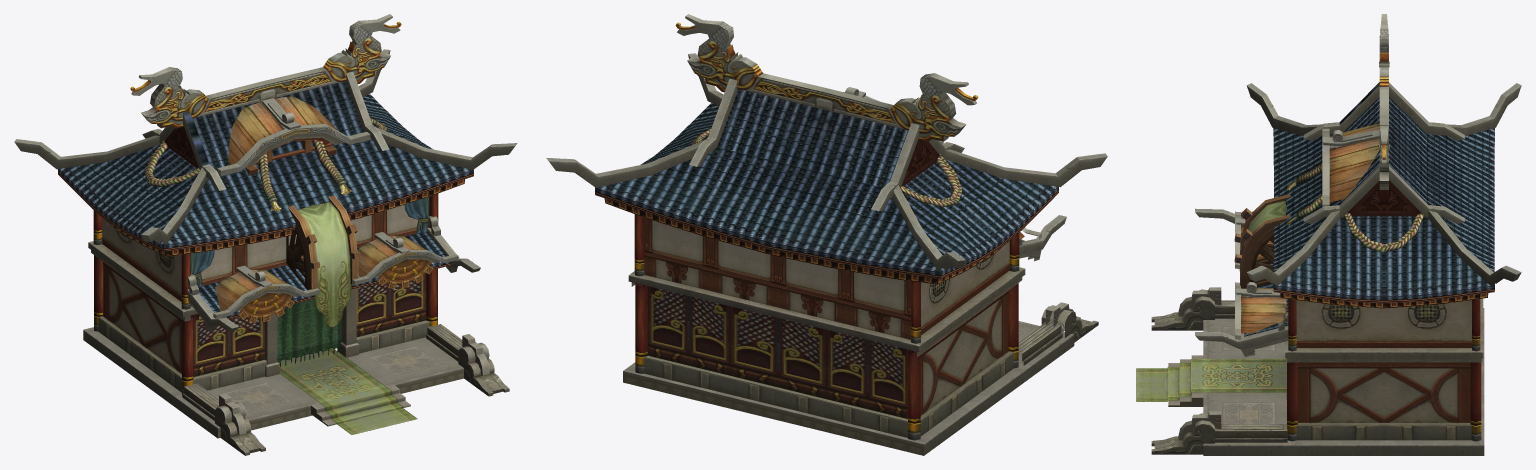
File: cj_luoyang_jianzhu01_53_43_3470out.fbx
3 renders of one model, left to right at view 1: azimuth 30°, elevation 25°; view 2: azimuth 150°, elevation 25°; view 3: azimuth 270°, elevation 25°, orthographic. The views are drawn at different scales.
Parts seen in each view (by area): view 1: cj_luoyang_jianzhu01; view 2: cj_luoyang_jianzhu01; view 3: cj_luoyang_jianzhu01.
Boxes of the visible parts, bbox=[...] form: cj_luoyang_jianzhu01: bbox=[14, 14, 517, 455]; cj_luoyang_jianzhu01: bbox=[546, 14, 1107, 455]; cj_luoyang_jianzhu01: bbox=[1136, 14, 1521, 455].
Size of the model in its own units: 11.71 by 8.82 by 9.95.
